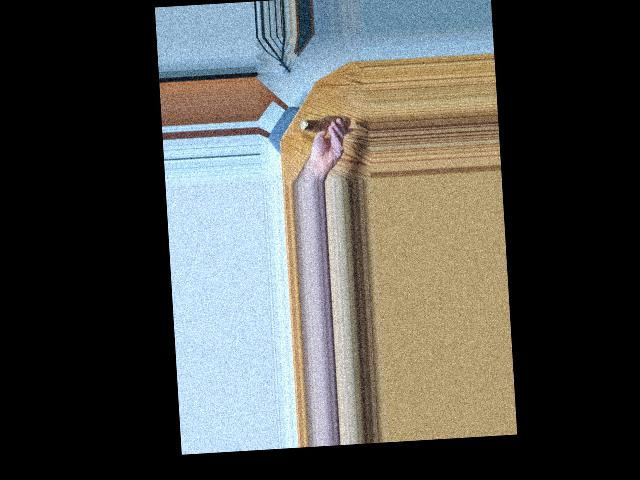sweet_potato: (305, 110, 346, 131)
